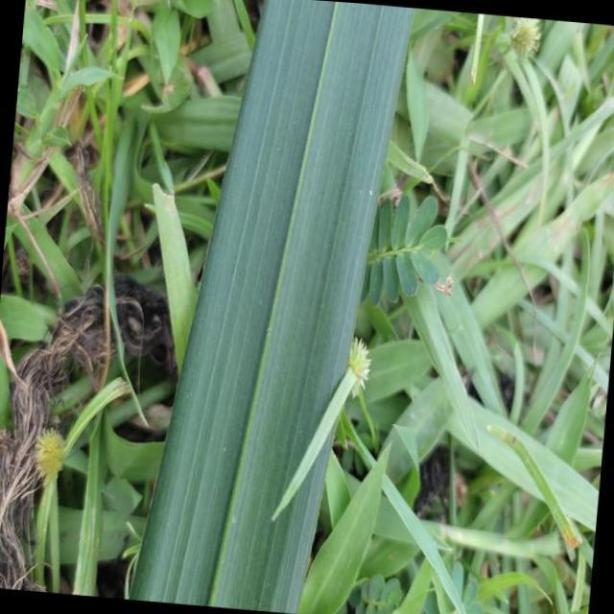Healthy: (133, 6, 419, 614)
